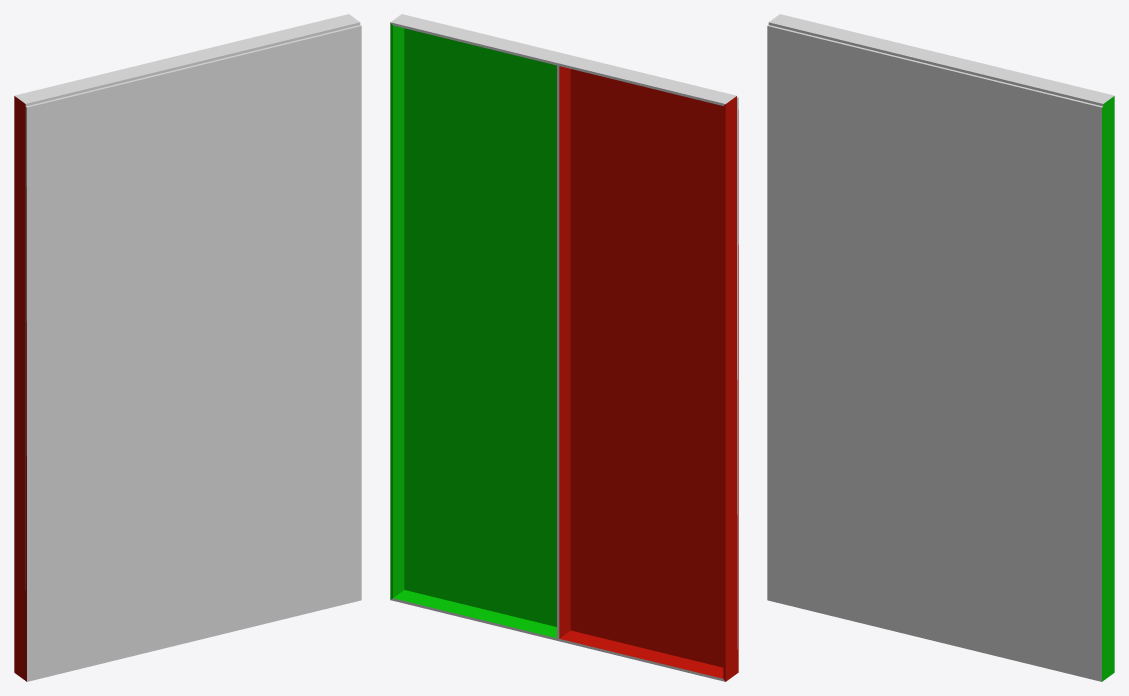
The model's file is Roulette.dae.
3 renders of one model, left to right at view 1: azimuth 30°, elevation 25°; view 2: azimuth 150°, elevation 25°; view 3: azimuth 330°, elevation 25°, orthographic.
Parts seen in each view (by area): view 1: Roulette; view 2: Roulette; view 3: Roulette.
Part boxes in pixels (<box>): Roulette: <box>14,14,361,681</box>; Roulette: <box>390,14,738,681</box>; Roulette: <box>767,14,1114,681</box>.
Size of the model in its own units: 0.4318 by 0.0286 by 0.7112.
